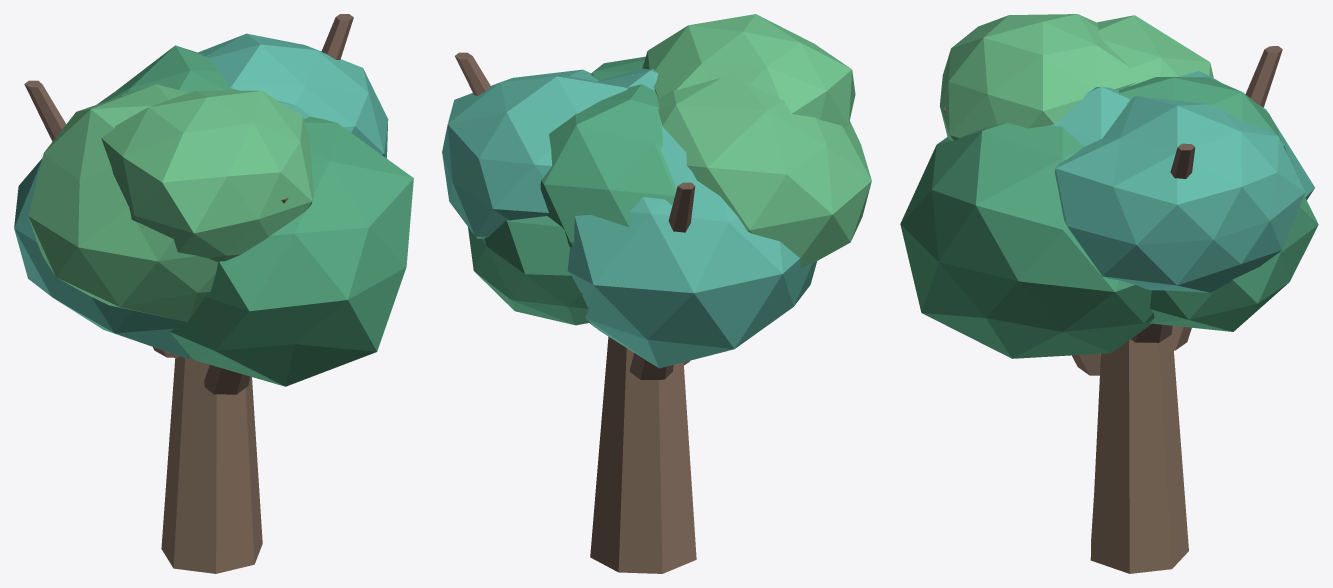
Rendered from Tree_Elder.glb.
The picture shows the model from 3 angles, left to right: view 1: azimuth 30°, elevation 25°; view 2: azimuth 150°, elevation 25°; view 3: azimuth 270°, elevation 25°; orthographic projection.
Parts seen in each view (by area): view 1: Tree_Elder; view 2: Tree_Elder; view 3: Tree_Elder.
Boxes of the visible parts, x1=… form: Tree_Elder: x1=14, y1=14, x2=413, y2=573; Tree_Elder: x1=442, y1=14, x2=871, y2=573; Tree_Elder: x1=900, y1=14, x2=1318, y2=573.
Bounding box in the file's own units: 8.94 × 11.84 × 8.91.
